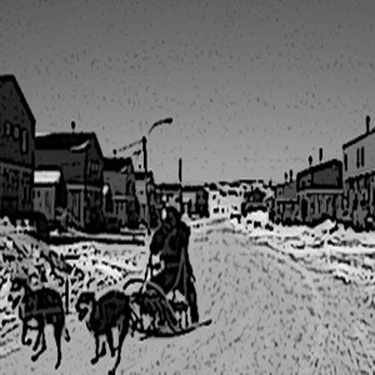dog: (6, 263, 77, 373), (74, 287, 135, 375)
